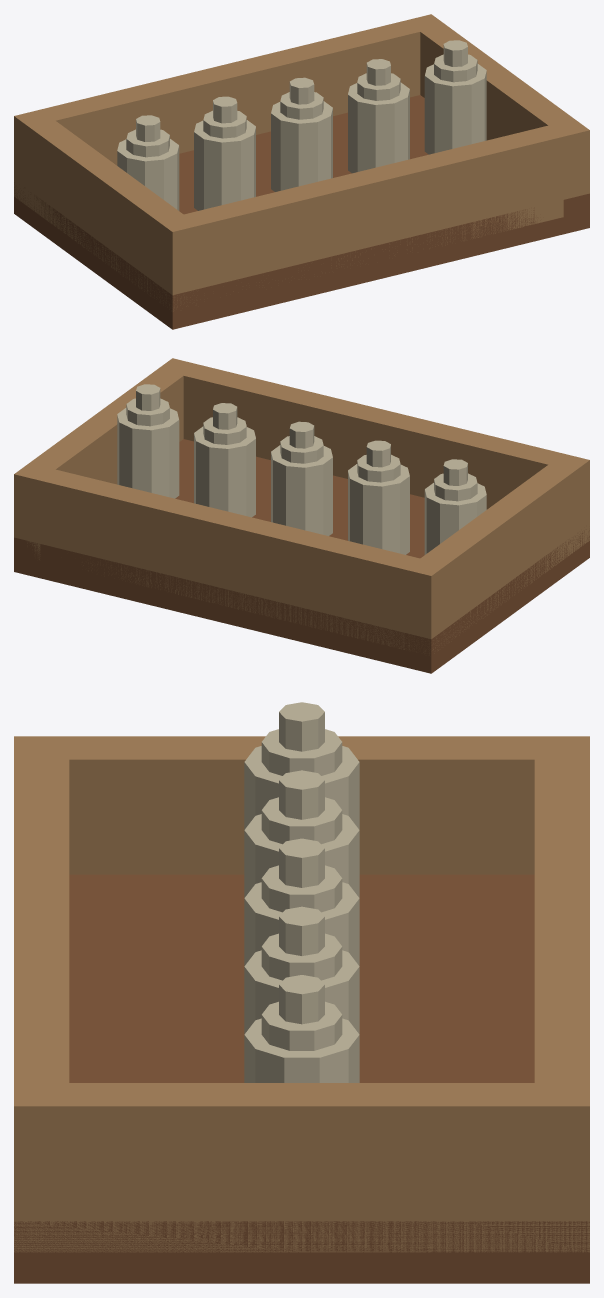
Rendered from set_spice_rack.glb.
3 renders of one model, top to bottom at view 1: azimuth 30°, elevation 25°; view 2: azimuth 150°, elevation 25°; view 3: azimuth 270°, elevation 25°, orthographic. The views are drawn at different scales.
Parts seen in each view (by area): view 1: set_spice_rack; view 2: set_spice_rack; view 3: set_spice_rack.
Part boxes in pixels (left/top/right/bottom): set_spice_rack: left=14, top=14, right=589, bottom=329; set_spice_rack: left=14, top=358, right=589, bottom=673; set_spice_rack: left=14, top=702, right=589, bottom=1283.
Size of the model in its own units: 0.38 by 0.12 by 0.25.
